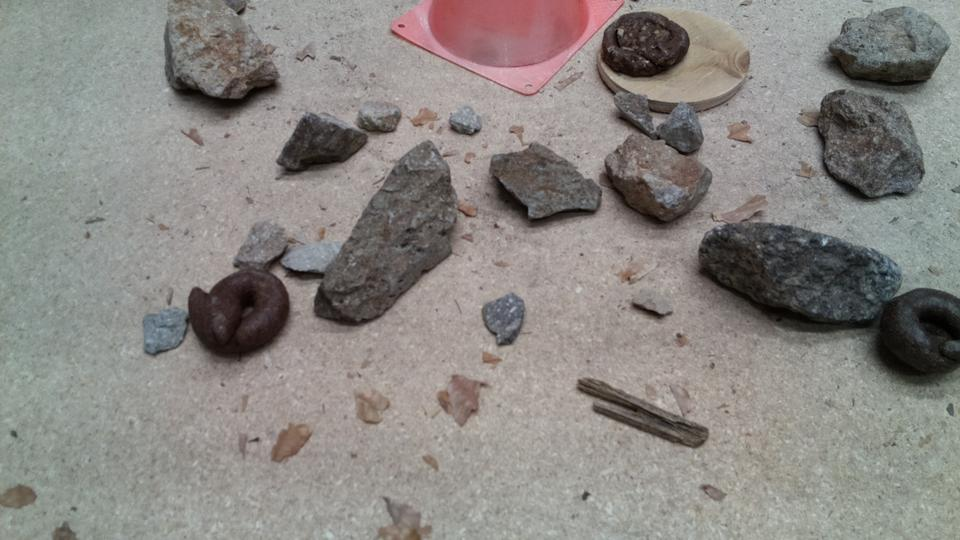poop: (185, 270, 293, 357), (878, 285, 960, 378), (599, 10, 691, 78)
